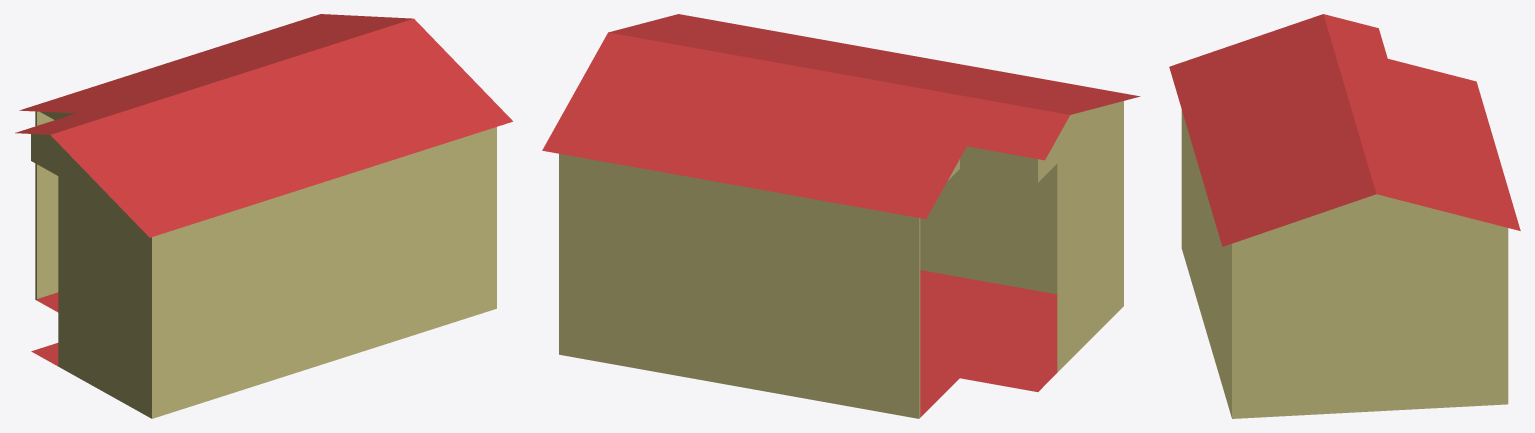
3 renders of one model, left to right at view 1: azimuth 30°, elevation 25°; view 2: azimuth 150°, elevation 25°; view 3: azimuth 270°, elevation 25°, orthographic. The views are drawn at different scales.
Bounding box in the file's own units: 20.32 × 15.79 × 10.99.
